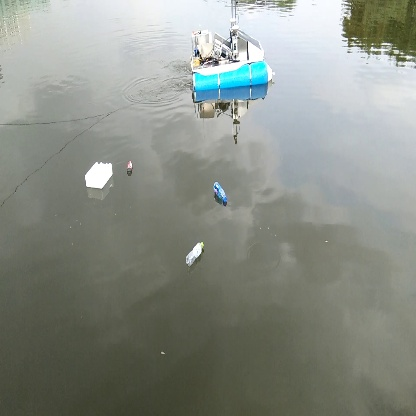bottle: (183, 239, 209, 268), (211, 179, 230, 207)
plastic-garbage: (83, 160, 116, 193)
